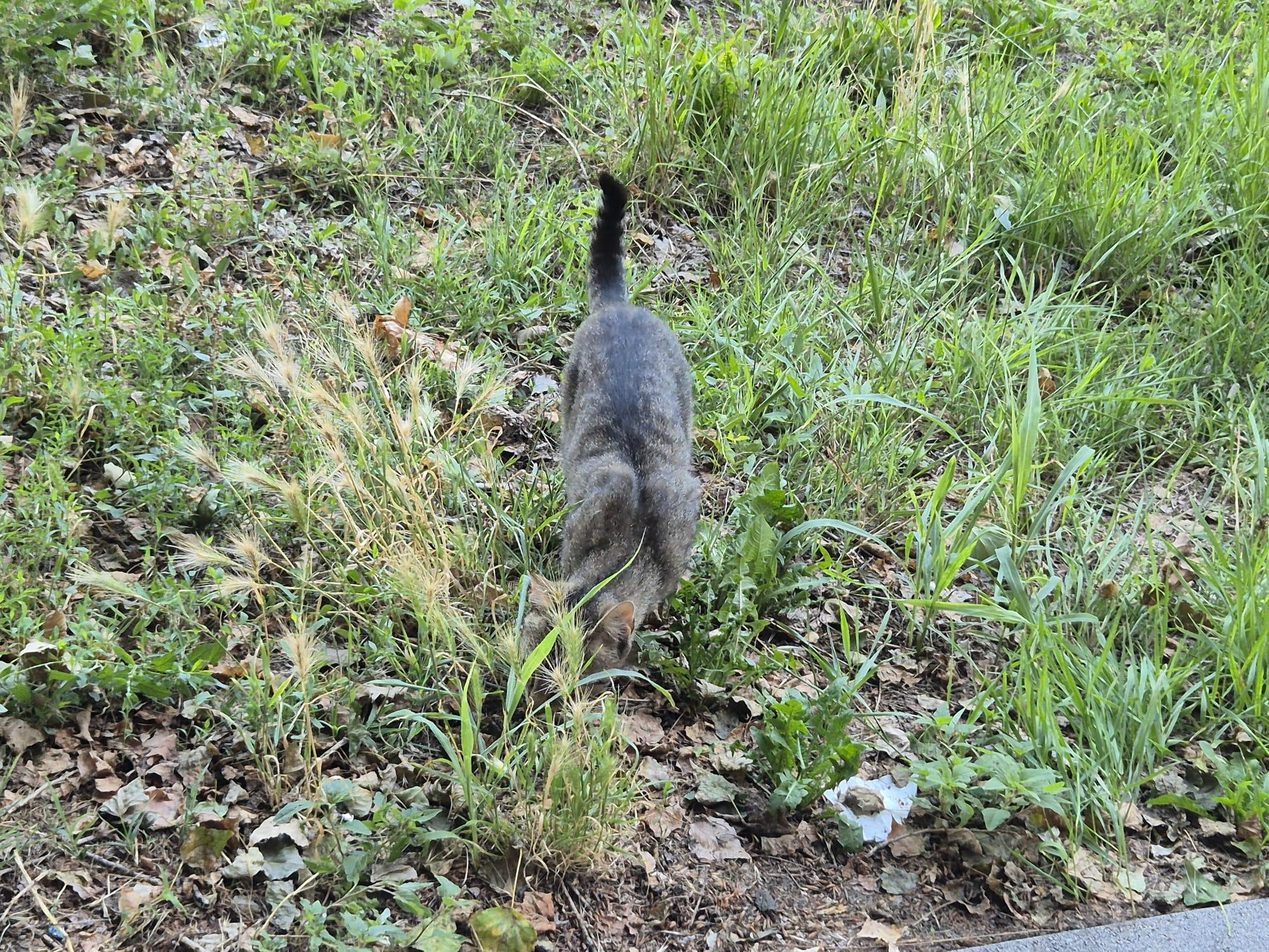macka: (516, 173, 705, 717)
